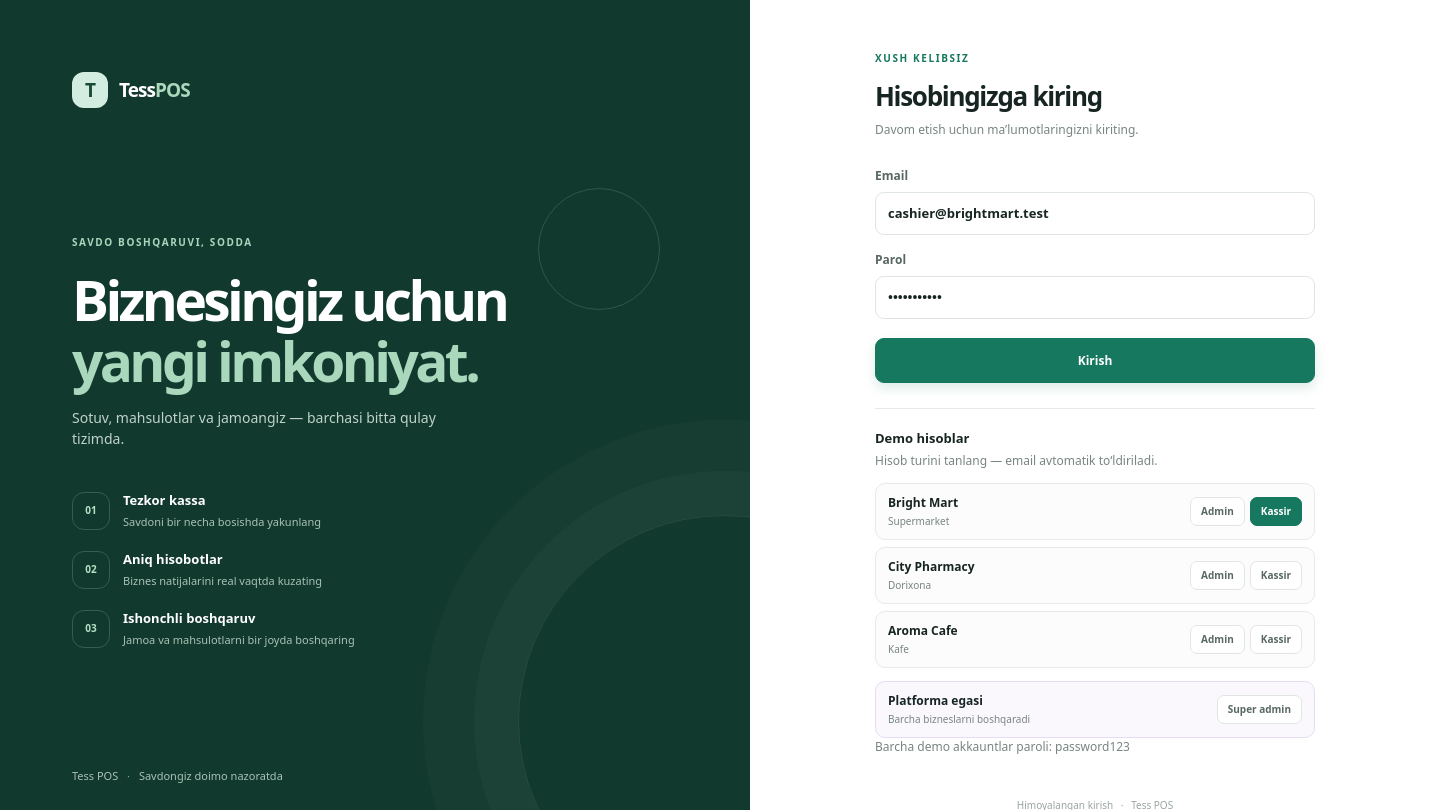
it: application pages › signs in using a selected demo role and routes to the admin home
The width and height of the screenshot is (1440, 810).
Click the button "Admin" in the row of "Bright Mart": click(1217, 511) [1190,496,1245,526]
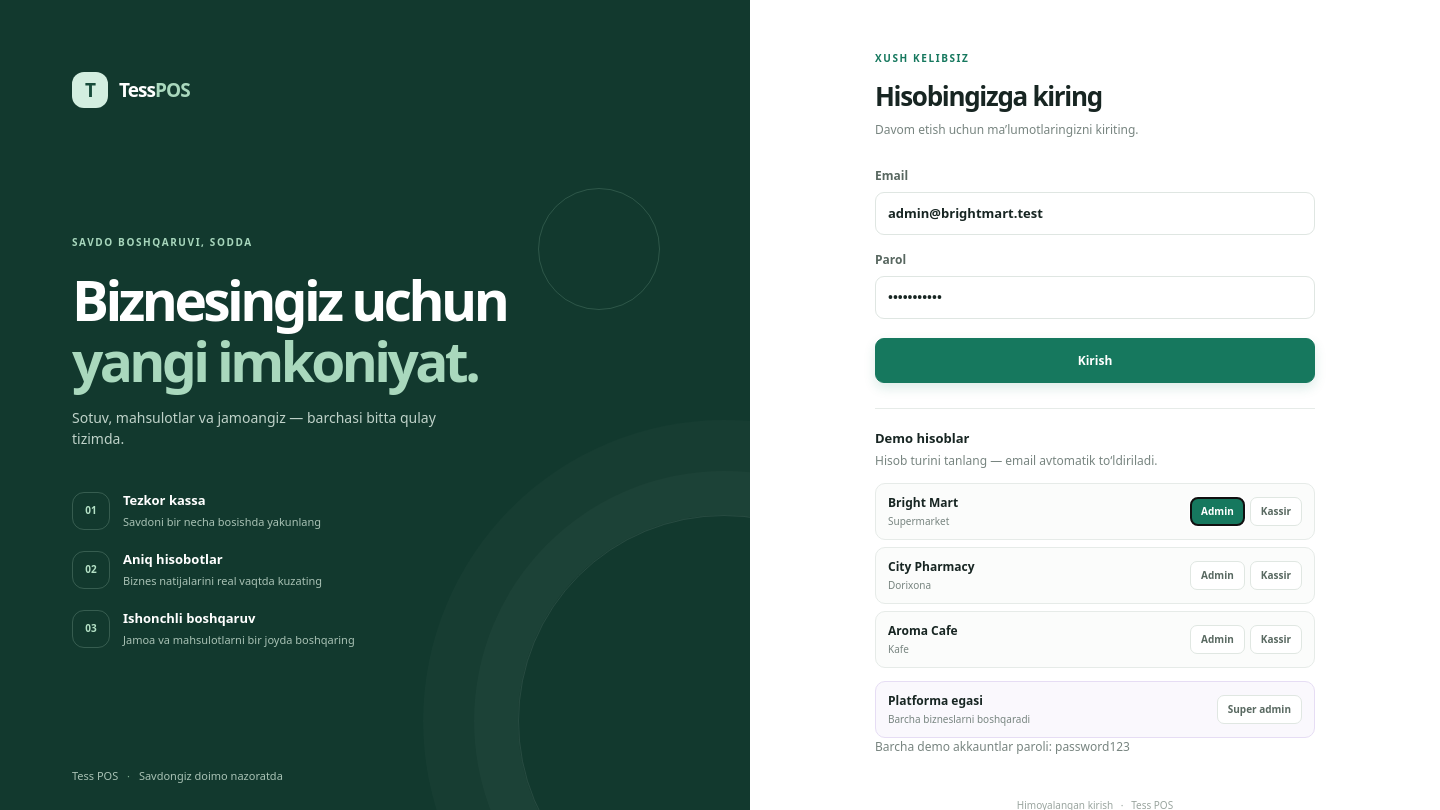
Check: the field labelled "Email" holds "admin@brightmart.test", box [875,192,1315,235]
Click the button "Kirish": click(1095, 360) [875,338,1315,383]
(page scrolled)
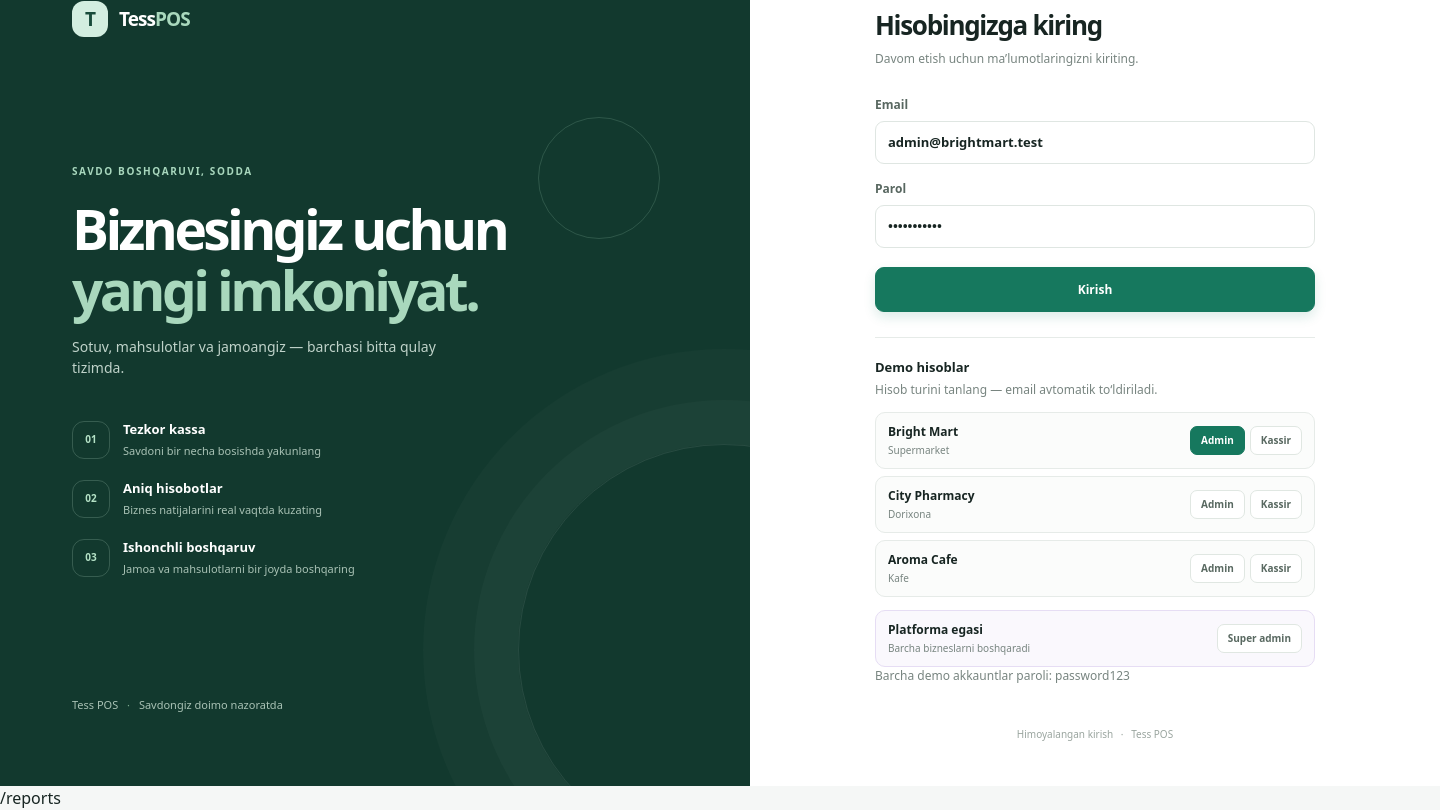
Check: the text with test id "location" reads "/reports", box [0,786,61,808]
